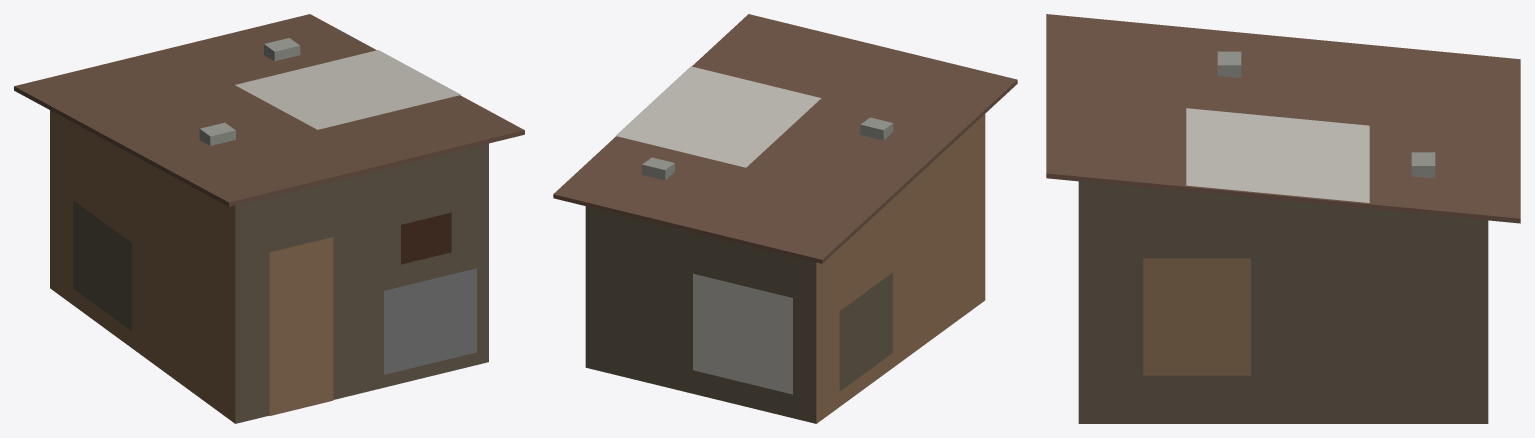
Rendered from fill1.fbx.
3 renders of one model, left to right at view 1: azimuth 30°, elevation 25°; view 2: azimuth 150°, elevation 25°; view 3: azimuth 270°, elevation 25°, orthographic. The views are drawn at different scales.
Visible parts, largest first — view 1: a2014/0/fill1; view 2: a2014/0/fill1; view 3: a2014/0/fill1.
Part boxes in pixels (x1,y1,x2,y2): a2014/0/fill1: (14, 14, 524, 423); a2014/0/fill1: (553, 14, 1017, 423); a2014/0/fill1: (1046, 14, 1520, 423).
Bounding box in the file's own units: 3.5 × 2.68 × 4.4.
